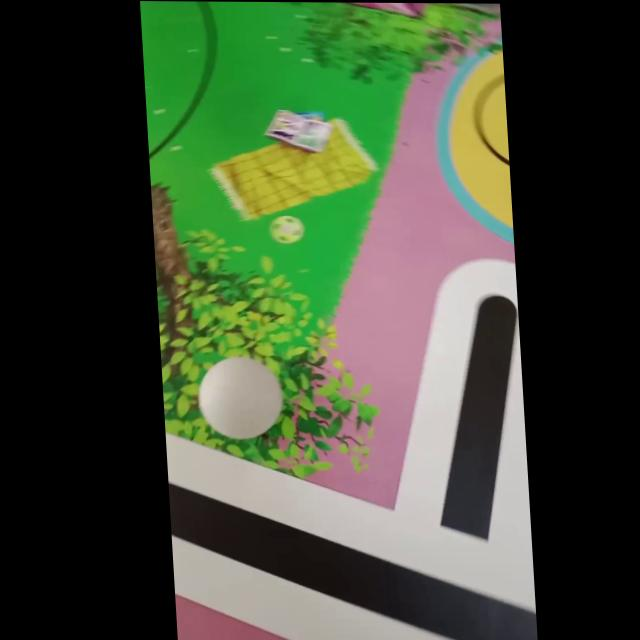white ball: (194, 355, 285, 440)
